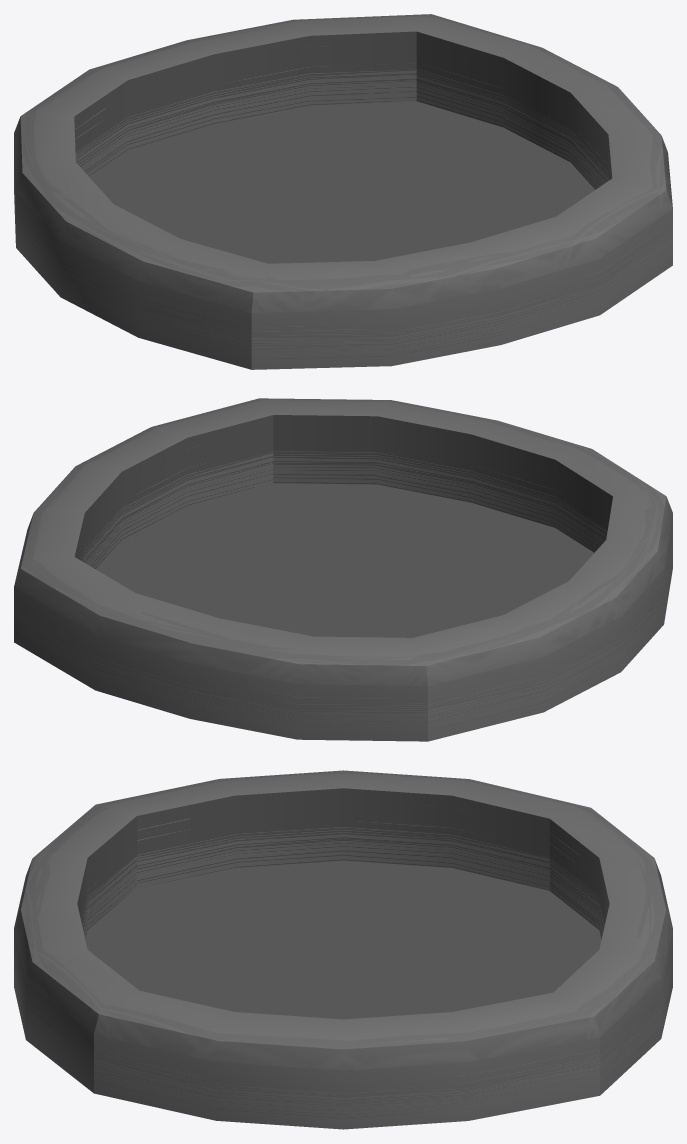
File: ButtonHolder.fbx
3 views of the same model, one above another, from view 1: azimuth 30°, elevation 25°; view 2: azimuth 150°, elevation 25°; view 3: azimuth 270°, elevation 25° (orthographic). The views are drawn at different scales.
Visible parts, largest first — view 1: buttonHolder; view 2: buttonHolder; view 3: buttonHolder.
Part boxes in pixels (x1,y1,x2,y2): buttonHolder: (14, 14, 672, 369); buttonHolder: (14, 398, 672, 741); buttonHolder: (14, 770, 672, 1129).
Bounding box in the file's own units: 167 × 22.74 × 163.
